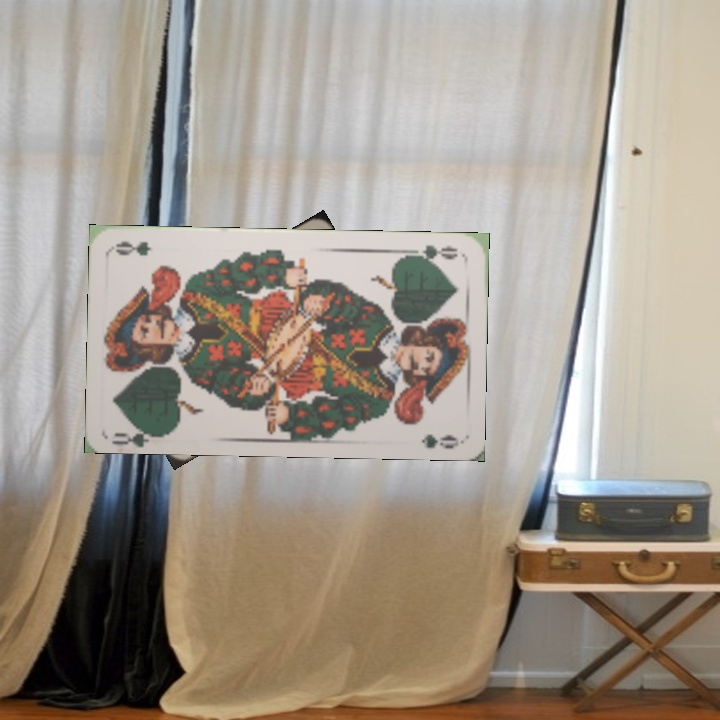GO: (109, 418, 169, 446), (403, 240, 461, 266)
